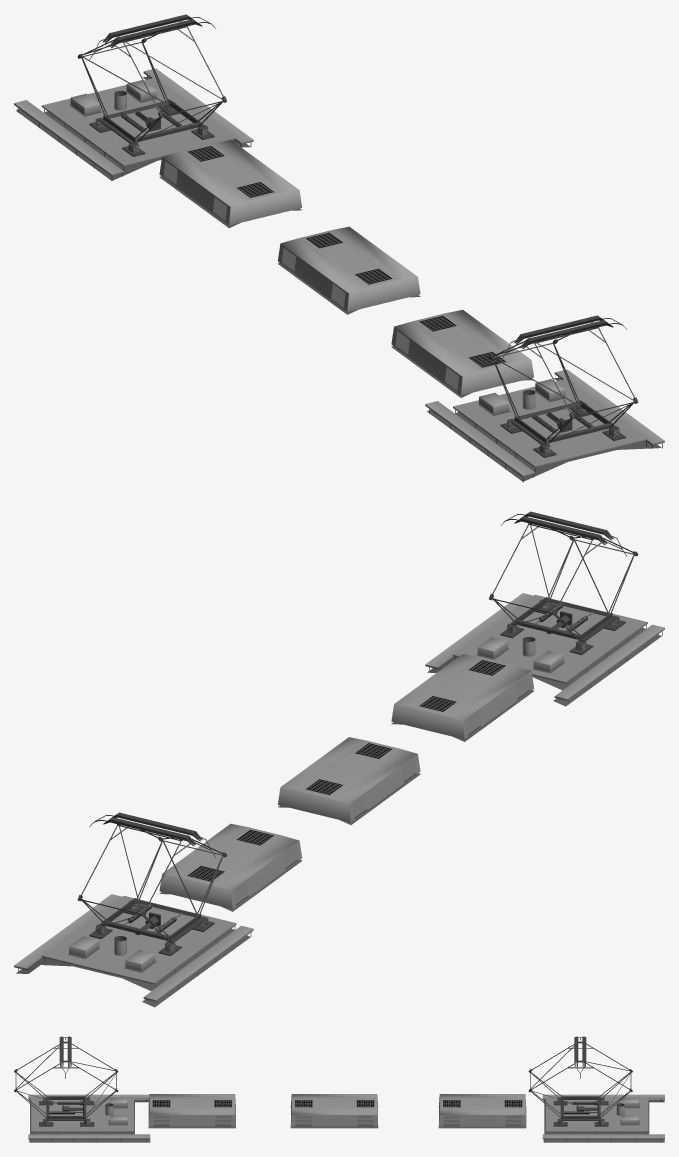
Rendered from H7011_PANTA0.glb.
The picture shows the model from 3 angles, top to bottom: view 1: azimuth 30°, elevation 25°; view 2: azimuth 150°, elevation 25°; view 3: azimuth 270°, elevation 25°; orthographic projection. The views are drawn at different scales.
Visible parts, largest first — view 1: obj; view 2: obj; view 3: obj.
Part boxes in pixels (bbox=[...]): obj: bbox=[14, 14, 664, 482]; obj: bbox=[14, 511, 664, 1007]; obj: bbox=[14, 1036, 664, 1142].
Bounding box in the file's own units: 5.82 × 4.54 × 36.92.
Materials: 12 (12 with a texture image).
